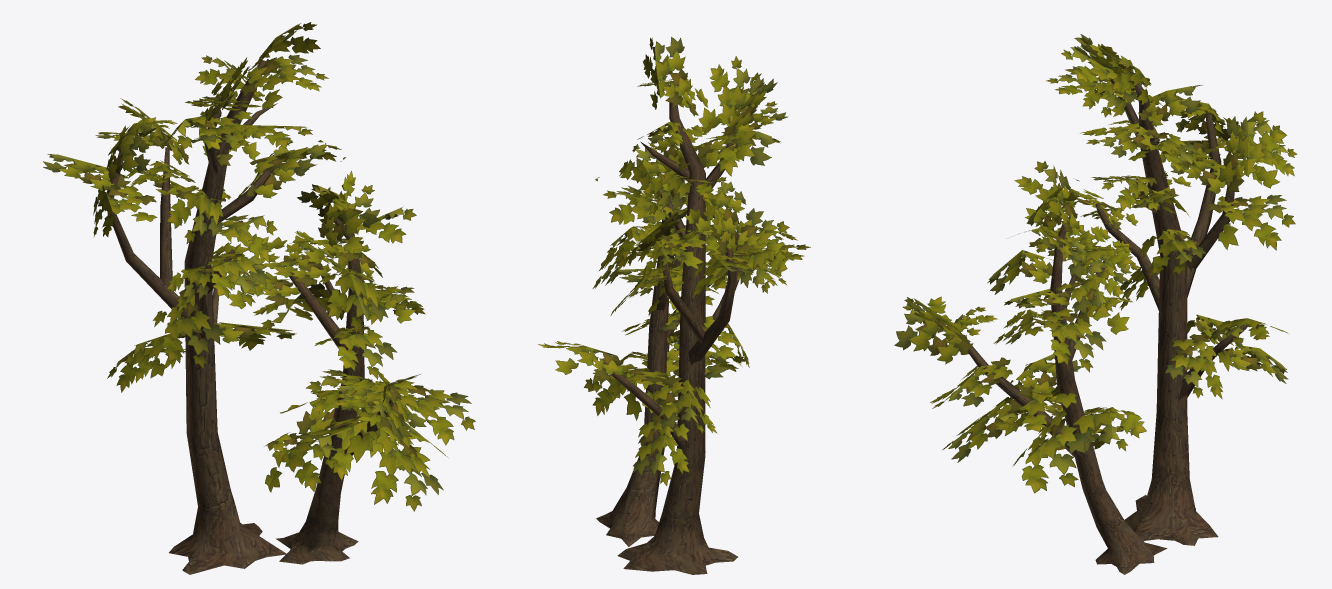
File: 2_Plant_Shu_04.FBX
The picture shows the model from 3 angles, left to right: view 1: azimuth 30°, elevation 25°; view 2: azimuth 150°, elevation 25°; view 3: azimuth 270°, elevation 25°; orthographic projection. The views are drawn at different scales.
Parts seen in each view (by area): view 1: 2_Plant_Shu_04; view 2: 2_Plant_Shu_04; view 3: 2_Plant_Shu_04.
Boxes of the visible parts, left/top/right/bottom form: 2_Plant_Shu_04: left=43, top=22, right=475, bottom=574; 2_Plant_Shu_04: left=538, top=37, right=810, bottom=574; 2_Plant_Shu_04: left=894, top=34, right=1297, bottom=574.
Size of the model in its own units: 603 by 982 by 791.
